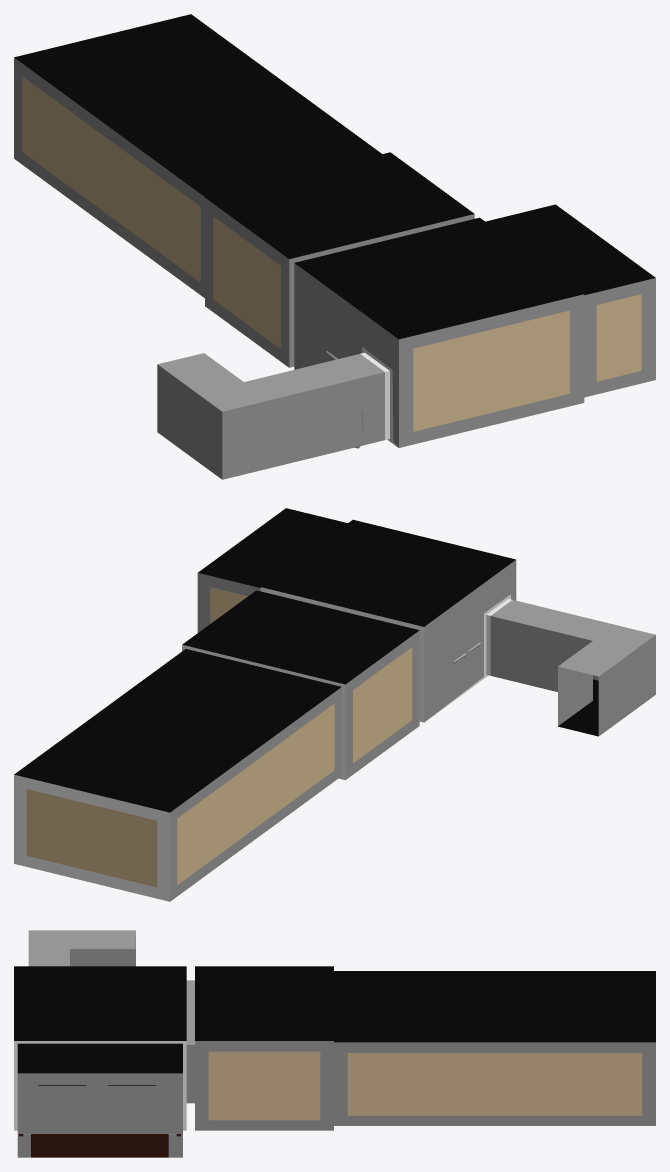
Rendered from Garage.fbx.
The picture shows the model from 3 angles, top to bottom: view 1: azimuth 30°, elevation 25°; view 2: azimuth 150°, elevation 25°; view 3: azimuth 270°, elevation 25°; orthographic projection. The views are drawn at different scales.
Visible parts, largest first — view 1: Garage; view 2: Garage; view 3: Garage, Table, Portrait, Portrait.001.
Part boxes in pixels (x1=…): Garage: x1=14, y1=14, x2=655, y2=479; Garage: x1=14, y1=508, x2=655, y2=901; Garage: x1=14, y1=930, x2=655, y2=1157; Table: x1=19, y1=1134, x2=180, y2=1157; Portrait: x1=108, y1=1085, x2=156, y2=1128; Portrait.001: x1=38, y1=1085, x2=86, y2=1128.
Bounding box in the file's own units: 1615 × 433 × 2542.
